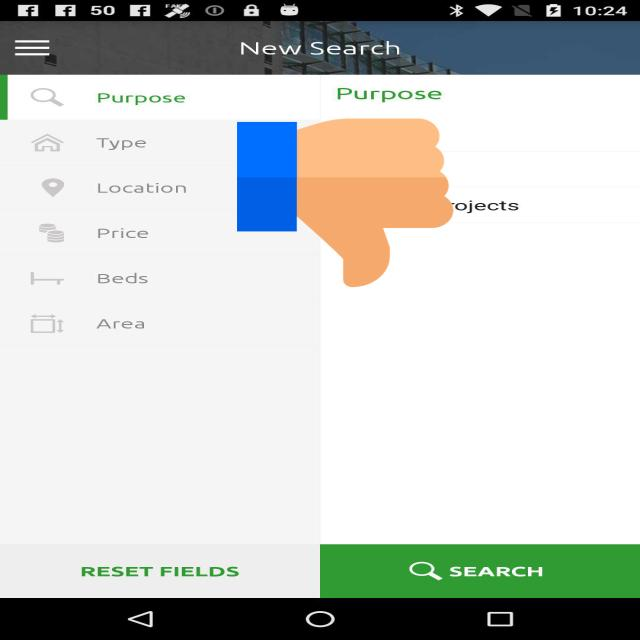obstruction: (237, 115, 453, 292)
